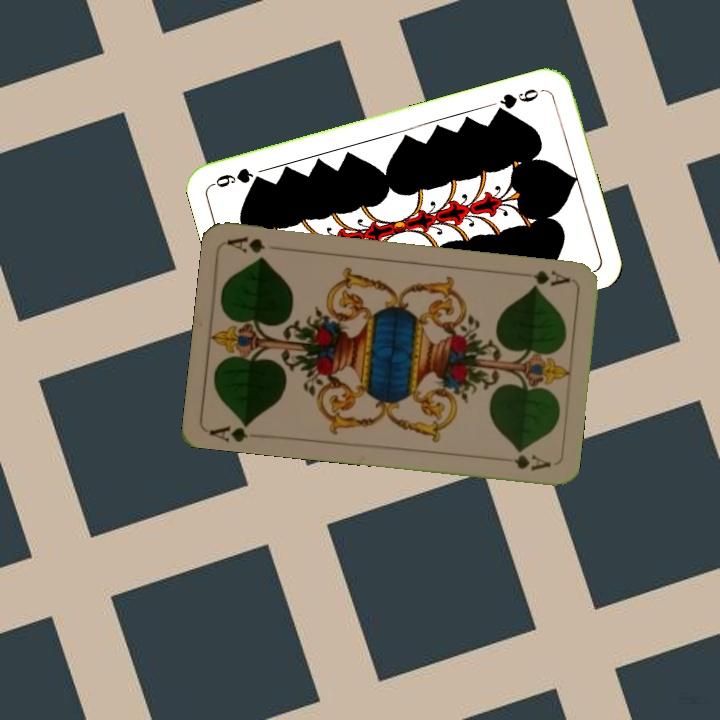G9: (491, 84, 541, 116)
GA: (515, 266, 573, 289), (206, 417, 254, 444)
